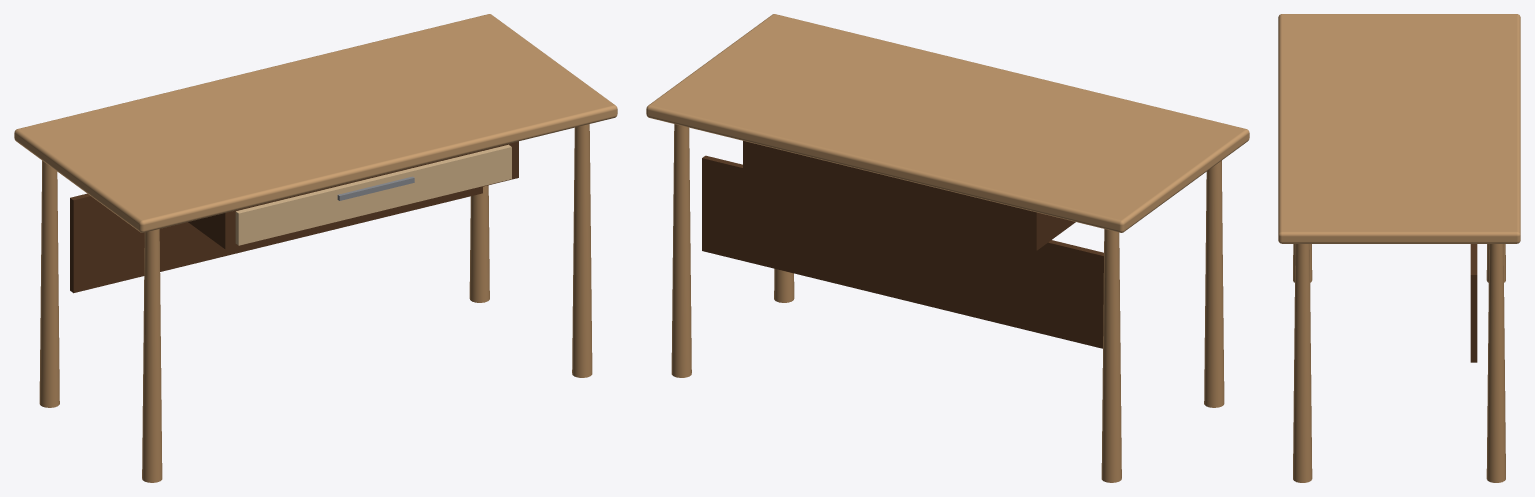
The model's file is desk.glb.
The picture shows the model from 3 angles, left to right: view 1: azimuth 30°, elevation 25°; view 2: azimuth 150°, elevation 25°; view 3: azimuth 270°, elevation 25°; orthographic projection. The views are drawn at different scales.
Visible parts, largest first — view 1: material-0-top, material-3-leg, material-1-body, material-2-drawer; view 2: material-0-top, material-1-body, material-3-leg; view 3: material-0-top, material-3-leg, material-1-body.
Part boxes in pixels (x1,y1,x2,y2): material-0-top: (14, 14, 617, 232); material-3-leg: (39, 124, 592, 482); material-1-body: (70, 141, 518, 293); material-2-drawer: (235, 144, 511, 245); material-0-top: (646, 14, 1249, 232); material-1-body: (702, 141, 1103, 348); material-3-leg: (671, 124, 1224, 482); material-0-top: (1278, 14, 1520, 243); material-3-leg: (1293, 244, 1505, 482); material-1-body: (1470, 244, 1477, 362).
Bounding box in the file's own units: 1.4 × 0.76 × 0.65.
